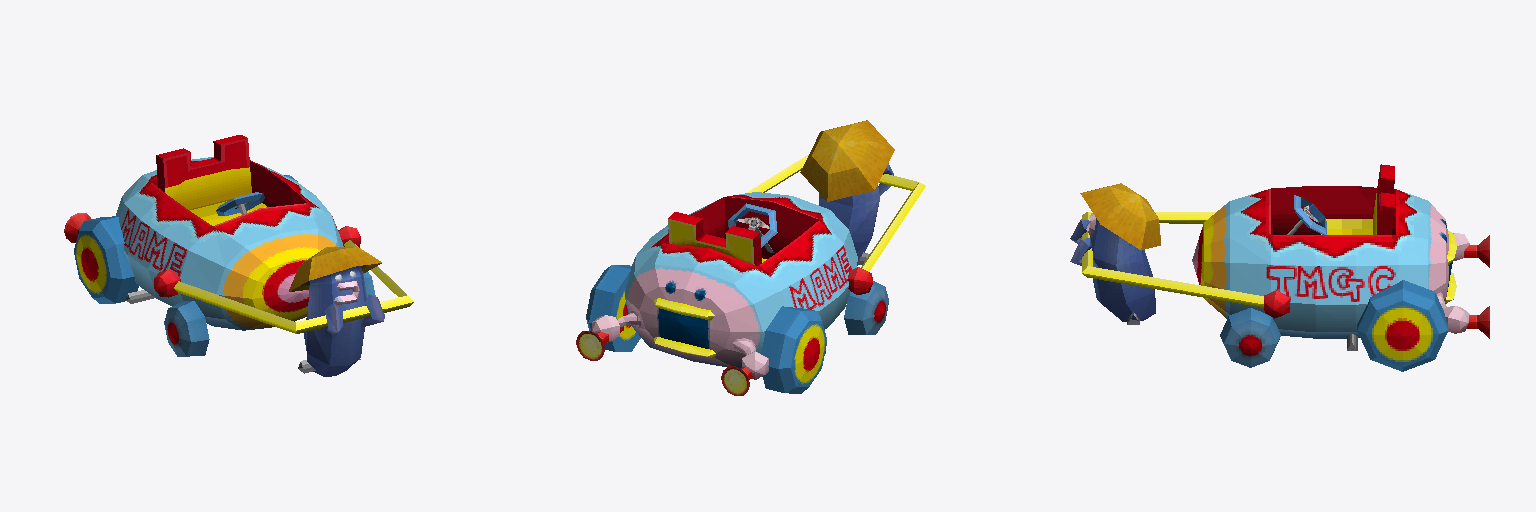
3 renders of one model, left to right at view 1: azimuth 30°, elevation 25°; view 2: azimuth 150°, elevation 25°; view 3: azimuth 270°, elevation 25°, orthographic.
Parts seen in each view (by area): view 1: Mesh_0102.rip, Mesh_0110.rip; view 2: Mesh_0102.rip, Mesh_0110.rip; view 3: Mesh_0102.rip, Mesh_0110.rip.
Boxes of the visible parts, <box> form: Mesh_0102.rip: <box>64,135,413,376</box>; Mesh_0110.rip: <box>74,175,297,303</box>; Mesh_0102.rip: <box>576,120,925,395</box>; Mesh_0110.rip: <box>586,265,826,393</box>; Mesh_0102.rip: <box>1070,164,1489,367</box>; Mesh_0110.rip: <box>1357,280,1447,371</box>.
Bounding box in the file's own units: 14.13 × 8.93 × 23.95.
Materials: 2 (2 with a texture image).